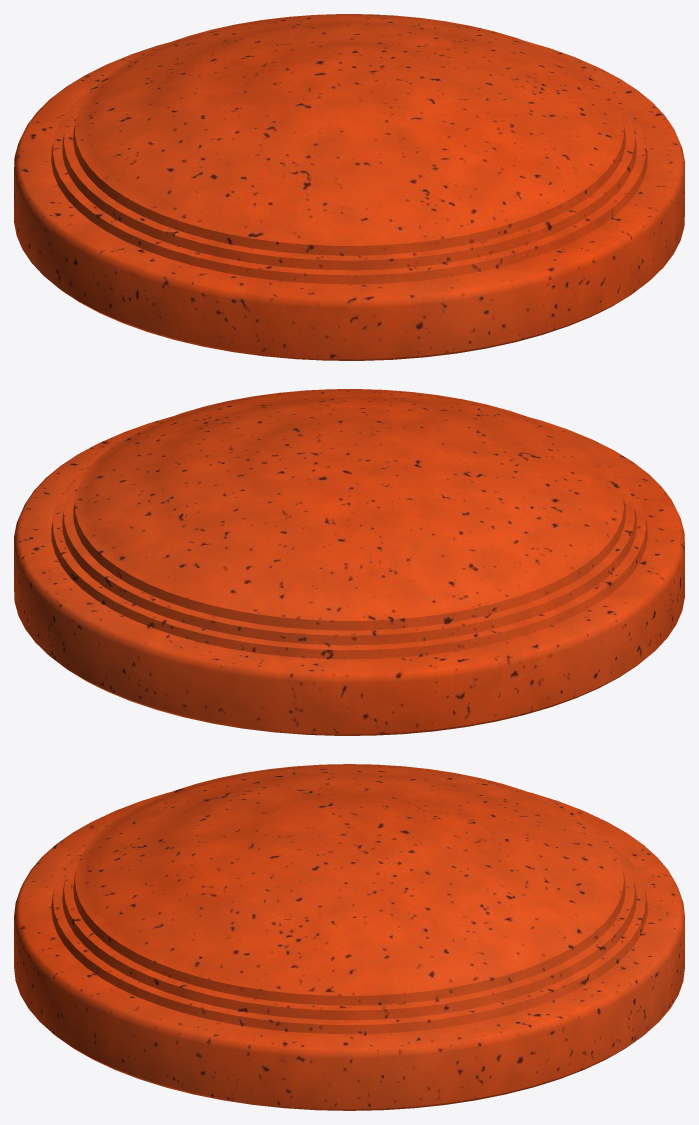
The model's file is clay.glb.
3 views of the same model, one above another, from view 1: azimuth 30°, elevation 25°; view 2: azimuth 150°, elevation 25°; view 3: azimuth 270°, elevation 25° (orthographic).
Visible parts, largest first — view 1: intact, frag_01, frag_10, frag_00, frag_04, frag_07, frag_02, frag_09, frag_06, frag_11, frag_08, frag_05 (+1 smaller); view 2: intact, frag_05, frag_09, frag_00, frag_01, frag_03, frag_08, frag_02, frag_11, frag_04, frag_10; view 3: intact, frag_11, frag_03, frag_06, frag_05, frag_00, frag_02, frag_07, frag_01, frag_10, frag_08, frag_04.
Boxes of the visible parts, bbox=[...] form: intact: bbox=[14, 14, 684, 360]; frag_01: bbox=[357, 37, 548, 134]; frag_10: bbox=[263, 184, 528, 357]; frag_00: bbox=[139, 32, 357, 140]; frag_04: bbox=[82, 136, 292, 340]; frag_07: bbox=[460, 134, 653, 337]; frag_02: bbox=[255, 88, 493, 202]; frag_09: bbox=[16, 115, 185, 304]; frag_06: bbox=[520, 94, 684, 268]; frag_11: bbox=[489, 42, 676, 142]; frag_08: bbox=[14, 52, 194, 170]; frag_05: bbox=[103, 15, 322, 68]; intact: bbox=[14, 389, 684, 735]; frag_05: bbox=[74, 513, 312, 733]; frag_09: bbox=[465, 514, 657, 713]; frag_00: bbox=[231, 452, 497, 564]; frag_01: bbox=[154, 399, 356, 490]; frag_03: bbox=[14, 463, 233, 675]; frag_08: bbox=[284, 558, 531, 734]; frag_02: bbox=[352, 401, 552, 479]; frag_11: bbox=[25, 414, 207, 509]; frag_04: bbox=[494, 463, 666, 638]; frag_10: bbox=[447, 402, 666, 499]; intact: bbox=[14, 764, 684, 1110]; frag_11: bbox=[216, 938, 462, 1110]; frag_03: bbox=[406, 869, 652, 1102]; frag_06: bbox=[76, 896, 279, 1097]; frag_05: bbox=[497, 832, 684, 1027]; frag_00: bbox=[305, 775, 536, 871]; frag_02: bbox=[142, 787, 333, 881]; frag_07: bbox=[15, 862, 200, 1045]; frag_01: bbox=[200, 832, 456, 942]; frag_10: bbox=[14, 796, 191, 920]; frag_08: bbox=[447, 777, 662, 864]; frag_04: bbox=[117, 765, 352, 812].
Size of the model in its own units: 0.11 by 0.025 by 0.11.
2 materials, 2 textured.
